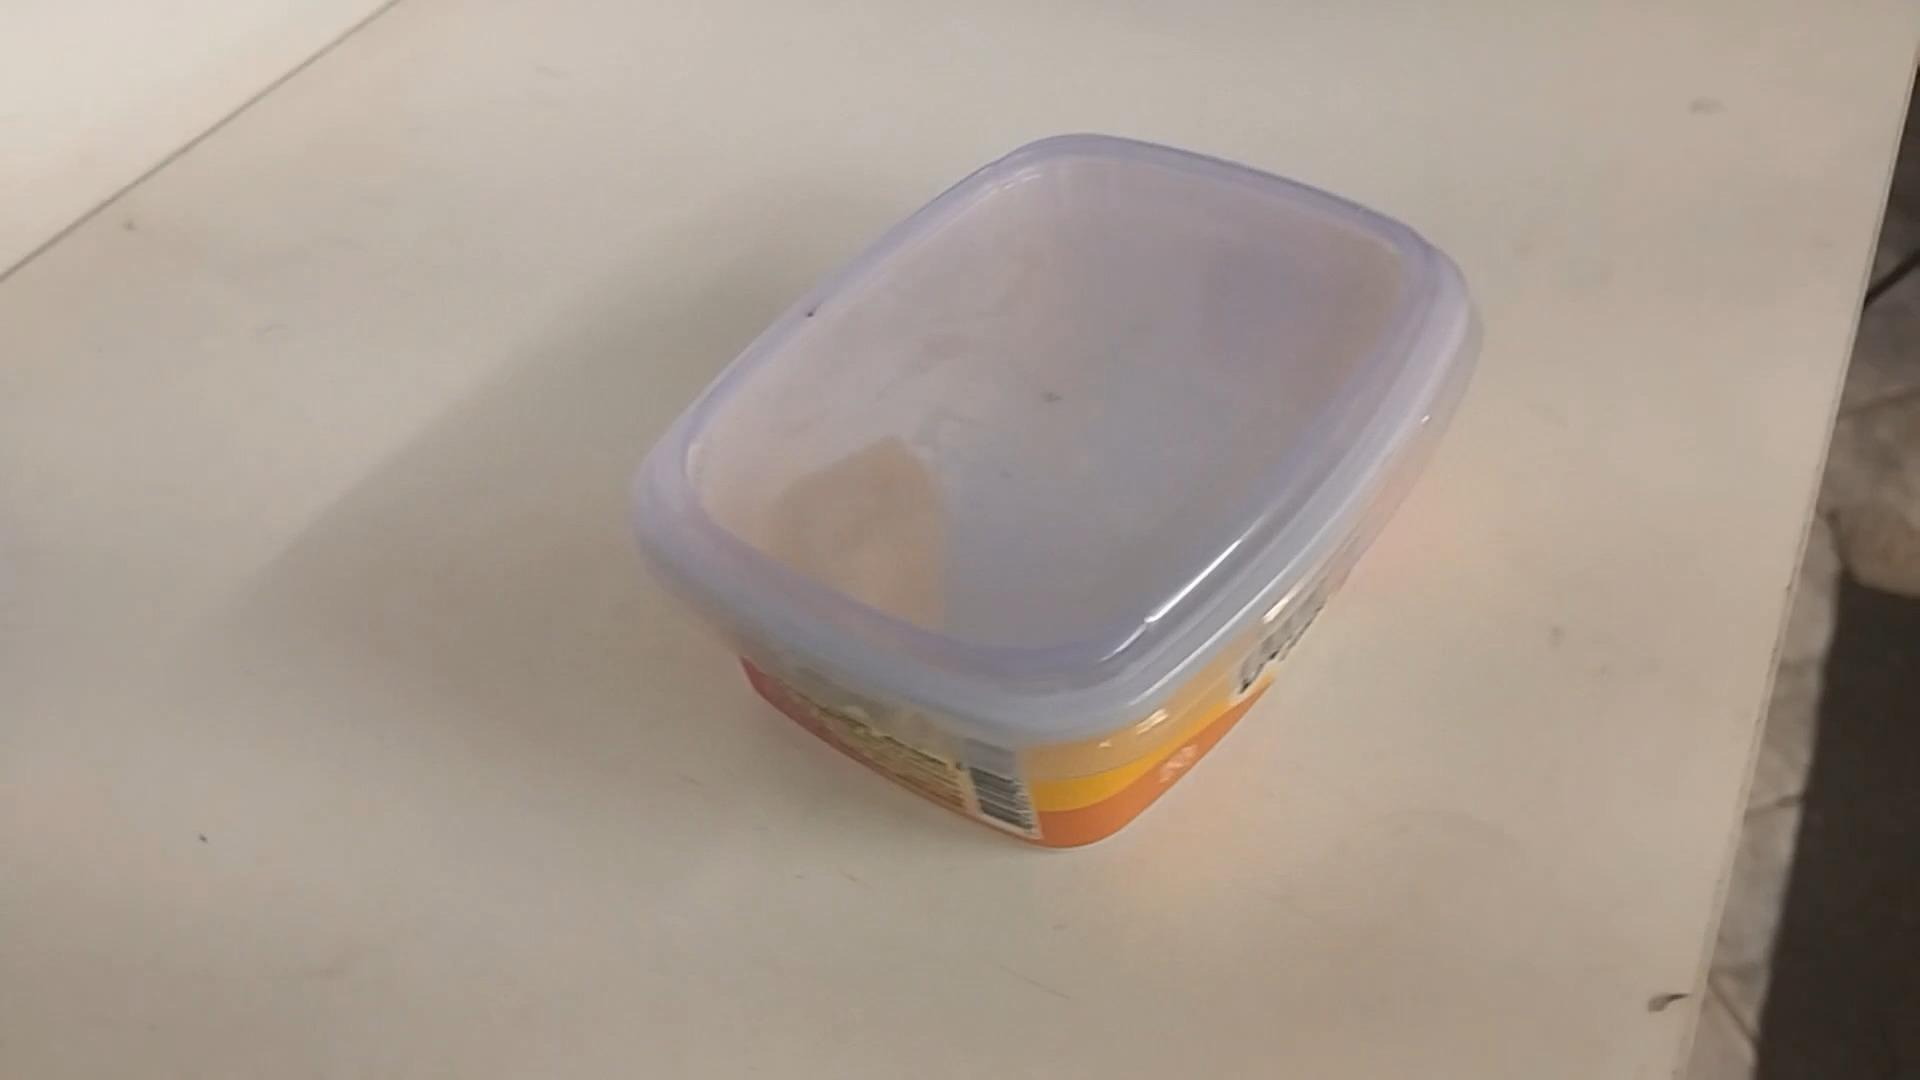butter: (626, 138, 1473, 853)
